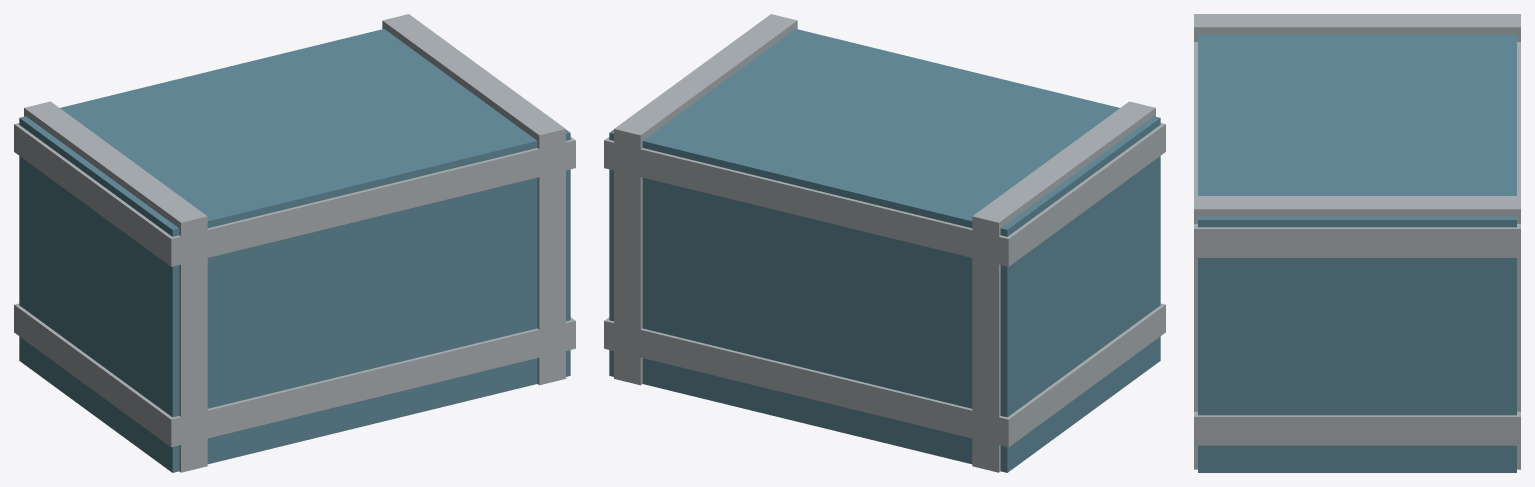
Rendered from endurance-and-gt-paddock-spares-crate-6d4d4c88__14874.glb.
3 renders of one model, left to right at view 1: azimuth 30°, elevation 25°; view 2: azimuth 150°, elevation 25°; view 3: azimuth 270°, elevation 25°, orthographic. The views are drawn at different scales.
Parts seen in each view (by area): view 1: spares-crate; view 2: spares-crate; view 3: spares-crate.
Boxes of the visible parts, x1,y1,x2,y2 form: spares-crate: (14,14,575,472); spares-crate: (604,14,1165,472); spares-crate: (1194,14,1520,472).
Size of the model in its own units: 1.22 by 0.72 by 0.8199.
